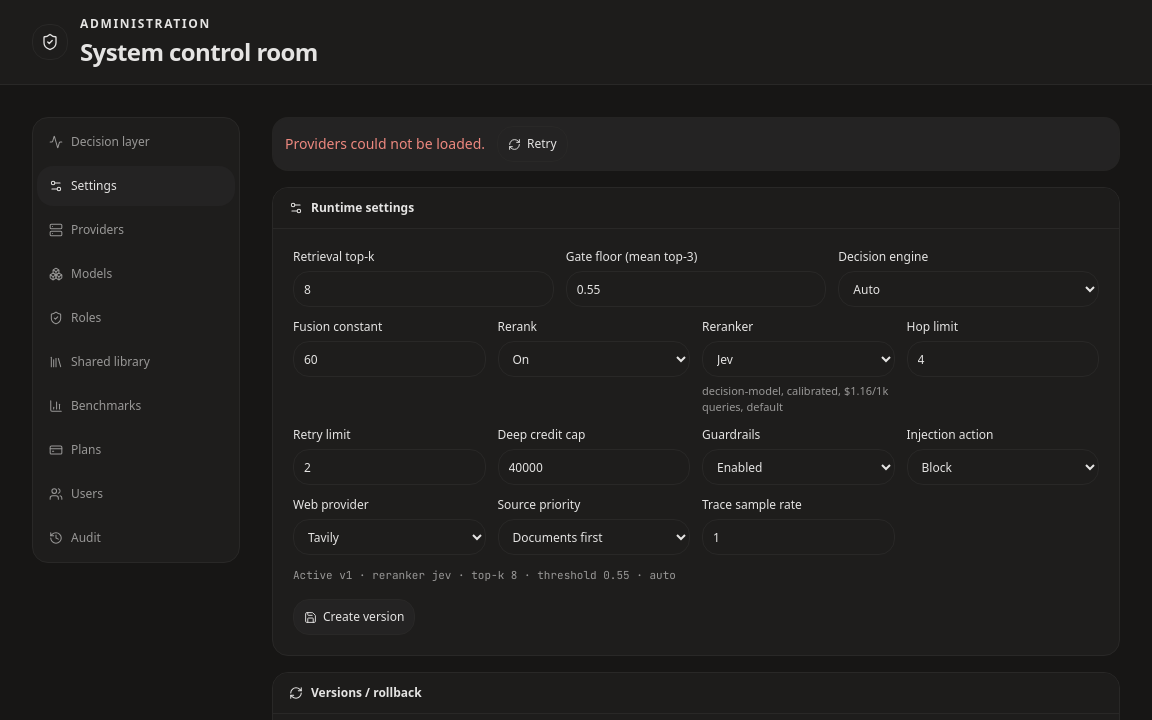
it: failed reads › a failed provider query shows an error with retry, not an empty list
The image size is (1152, 720).
Click the button "Providers": (136, 230) [37,210,235,250]
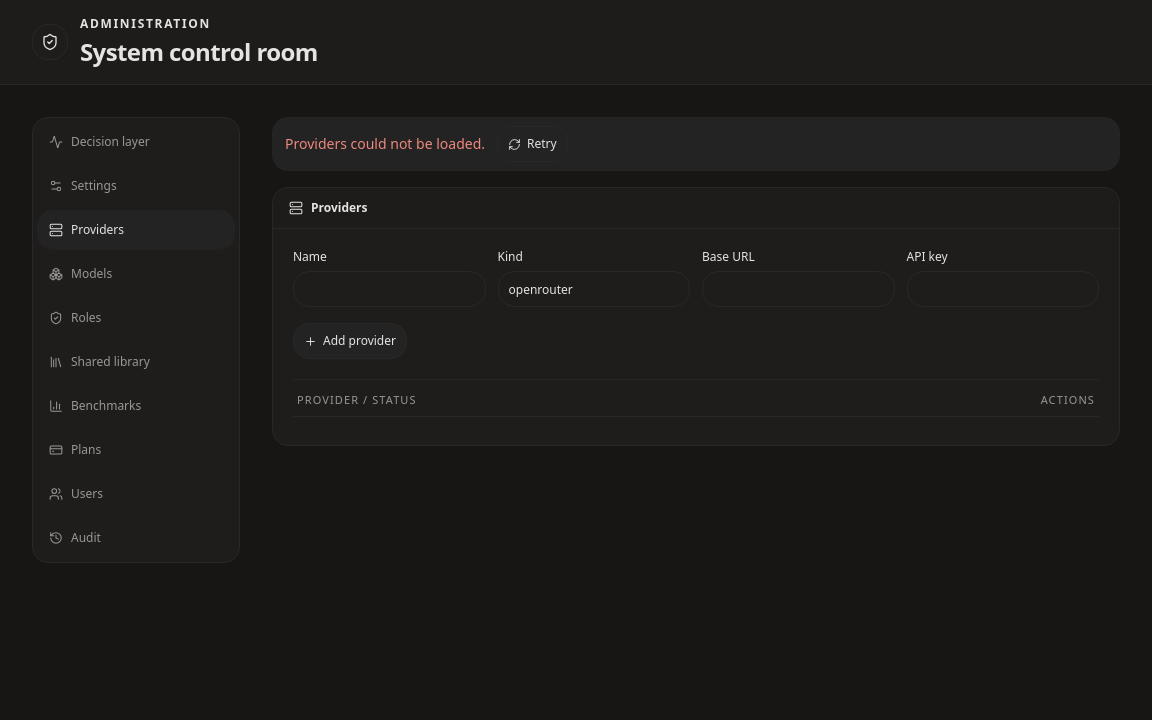
expect the text "Providers could not be loaded." is shown: met, box [285,134,485,154]
Click the button "Retry": (532, 144) [497,126,568,162]
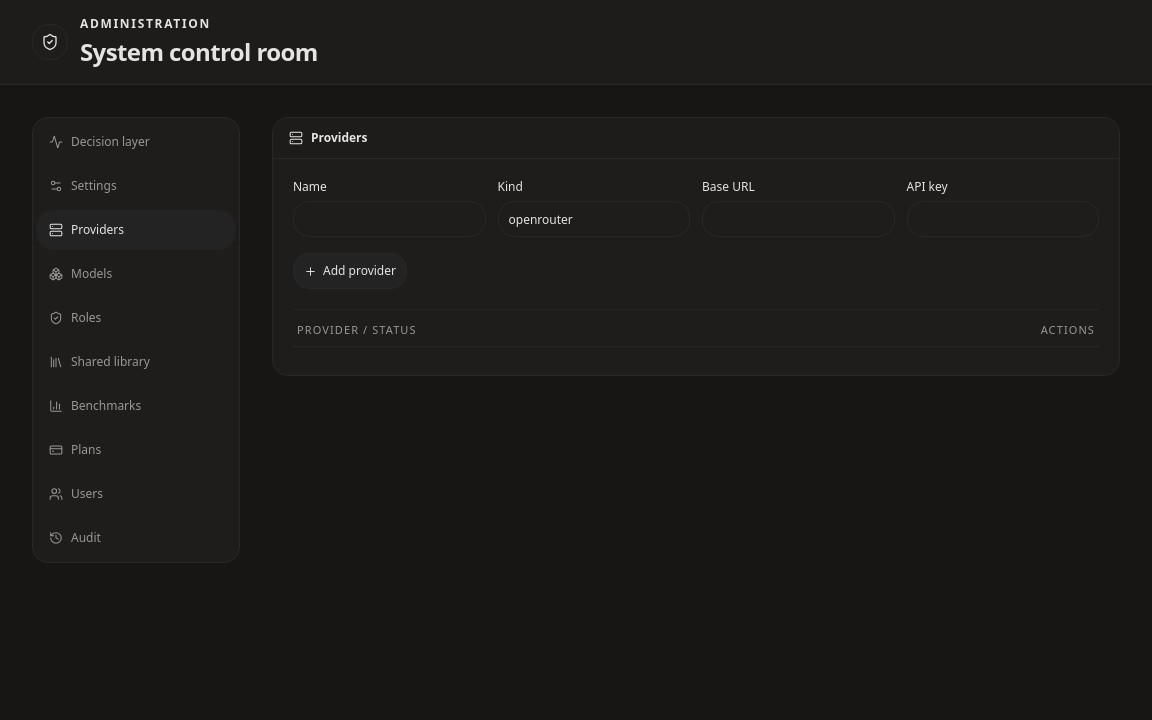
expect the text "Providers could not be loaded." is gone: met
